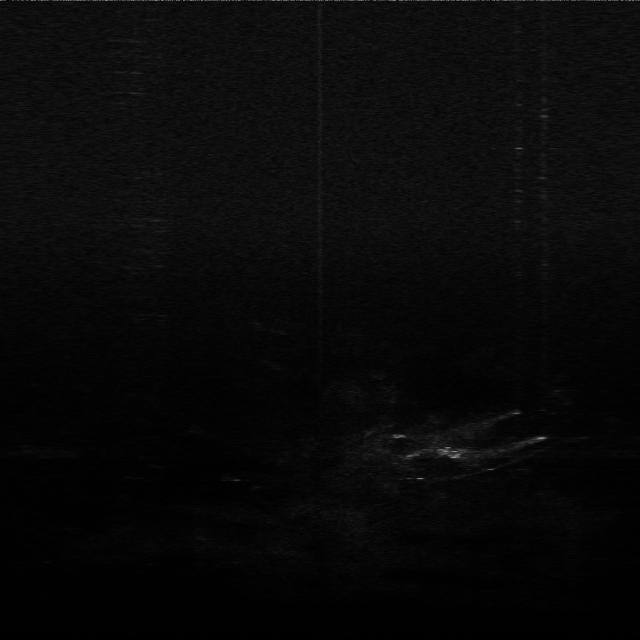rov: (436, 442, 472, 462)
